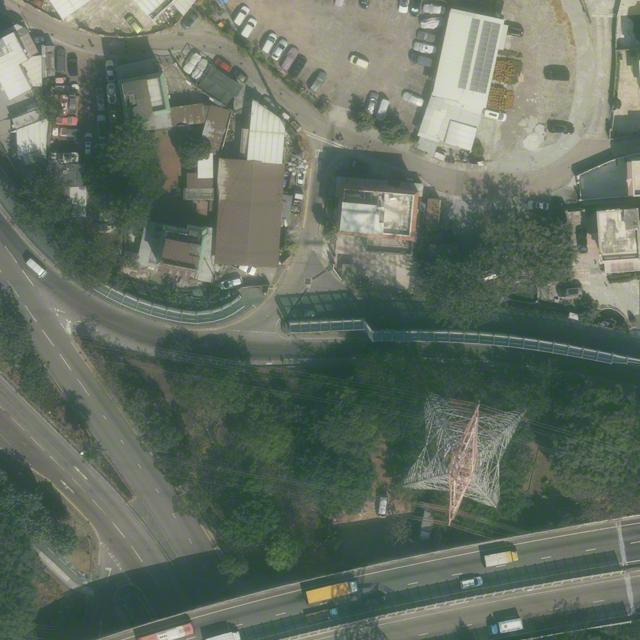panel: (470, 21, 502, 92), (457, 18, 480, 90)
